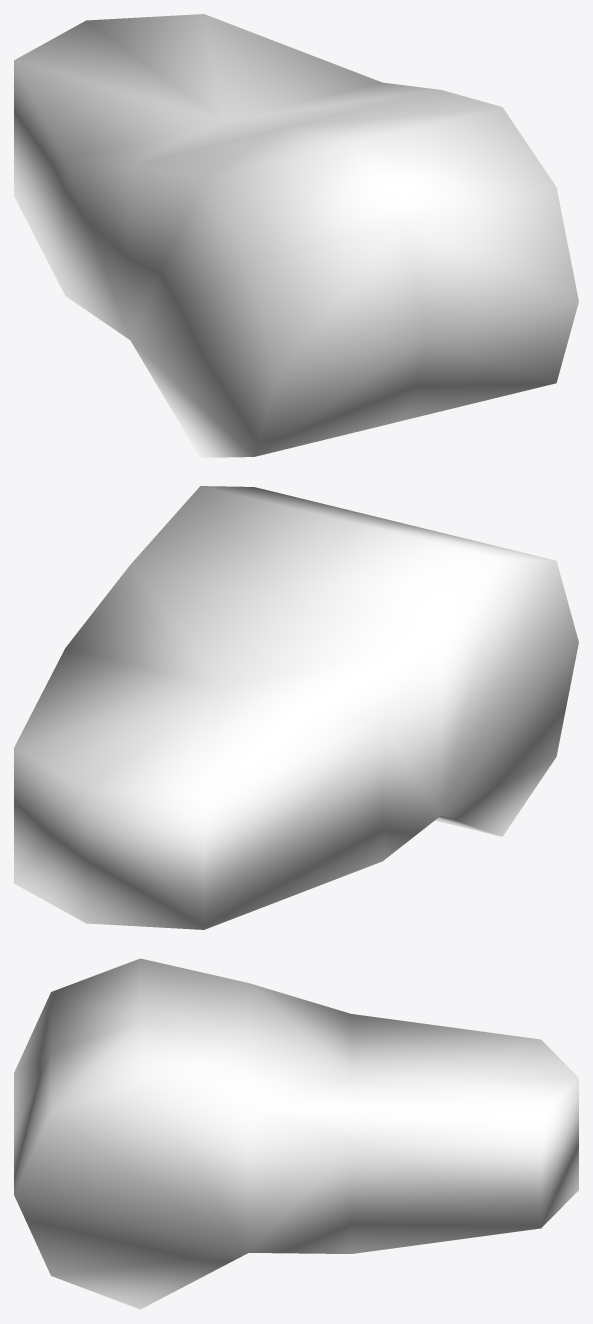
The model's file is thumbj1_right.obj.
The picture shows the model from 3 angles, top to bottom: view 1: azimuth 30°, elevation 25°; view 2: azimuth 150°, elevation 25°; view 3: azimuth 270°, elevation 25°; orthographic projection. The views are drawn at different scales.
Size of the model in its own units: 0.0224 by 0.0187 by 0.0417.
1 material, 1 textured.
